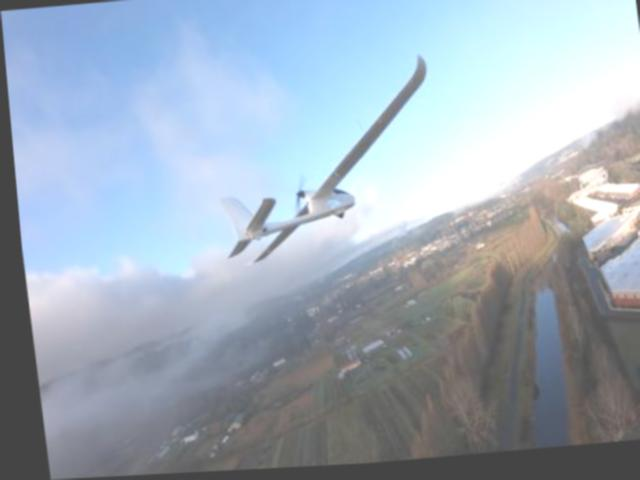uav: (199, 47, 457, 281)
